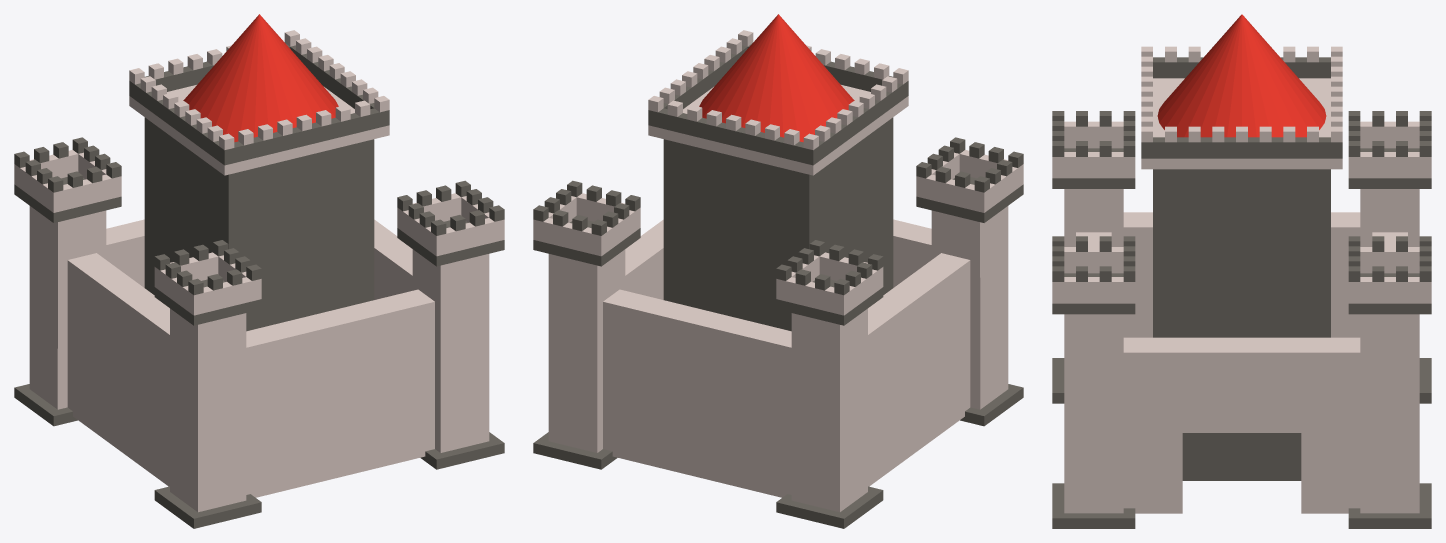
Rendered from Castle.fbx.
3 renders of one model, left to right at view 1: azimuth 30°, elevation 25°; view 2: azimuth 150°, elevation 25°; view 3: azimuth 270°, elevation 25°, orthographic. The views are drawn at different scales.
Parts seen in each view (by area): view 1: Tower03; view 2: Tower03; view 3: Tower03.
Boxes of the visible parts, x1=… form: Tower03: x1=14, y1=14, x2=504, y2=528; Tower03: x1=533, y1=14, x2=1023, y2=528; Tower03: x1=1052, y1=14, x2=1431, y2=528.
Size of the model in its own units: 6400 by 8100 by 6400.
